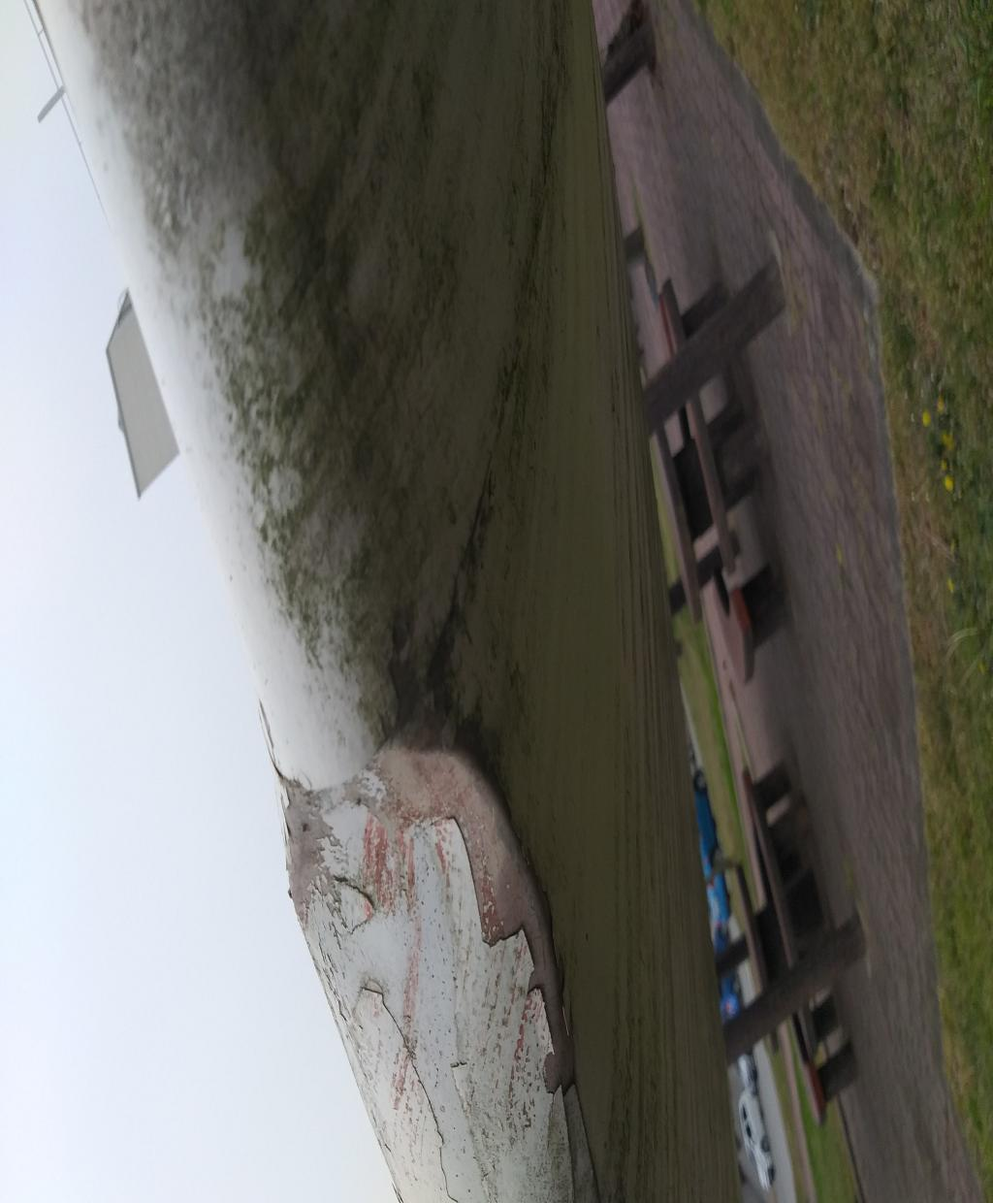corrosion: (0, 580, 216, 1203)
